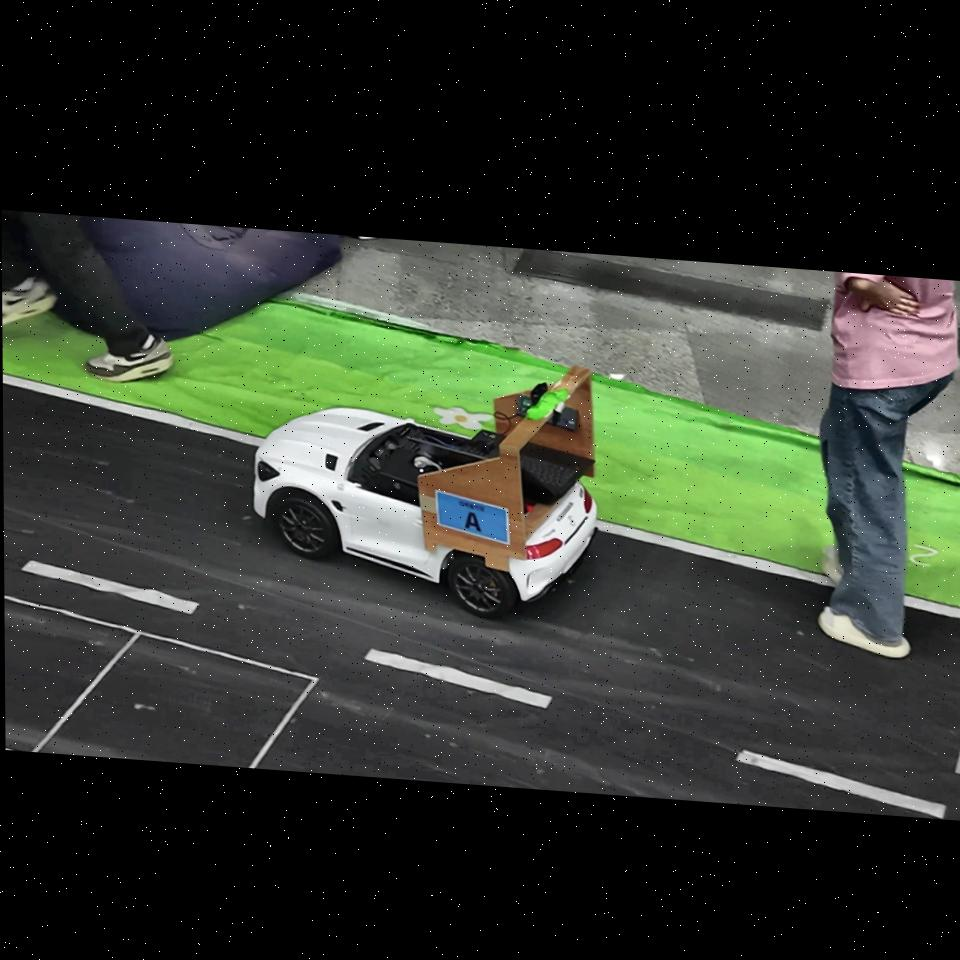broken_line: (735, 749, 947, 819), (363, 648, 553, 709), (21, 560, 201, 615)
